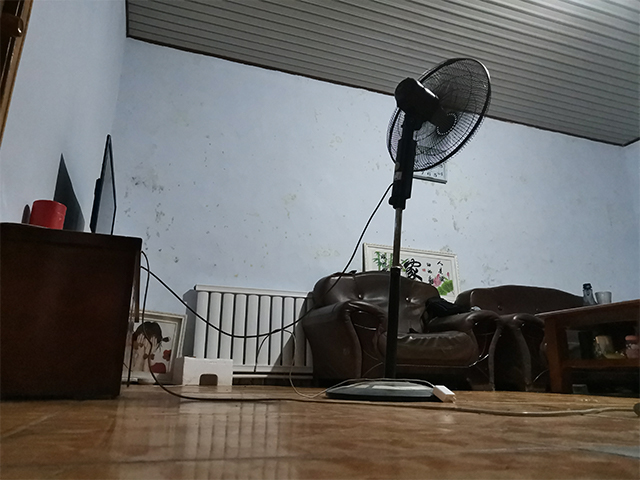cabinet: (1, 221, 144, 403)
sofa: (299, 265, 512, 393)
table: (533, 298, 640, 395)
wire: (156, 378, 630, 415), (142, 249, 295, 362)
